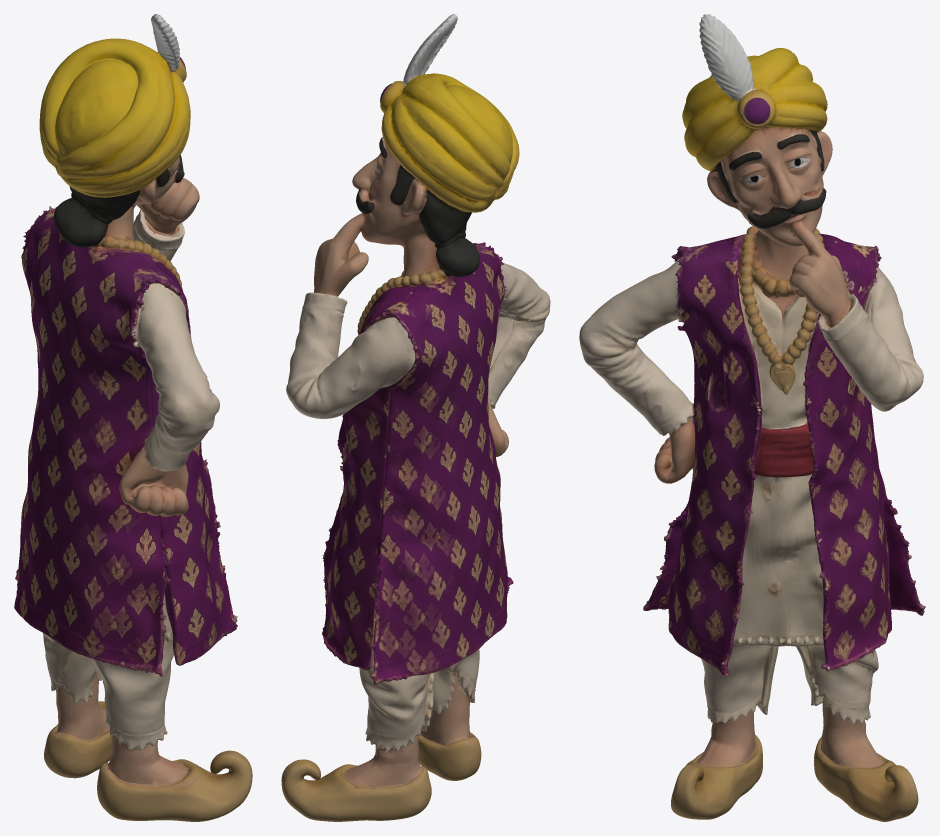
The model's file is birbal.glb.
The picture shows the model from 3 angles, left to right: view 1: azimuth 30°, elevation 25°; view 2: azimuth 150°, elevation 25°; view 3: azimuth 270°, elevation 25°; orthographic projection. The views are drawn at different scales.
Parts seen in each view (by area): view 1: tripo_node_72dcf7a5-e5c6-4138-8954-e76c51cb2341; view 2: tripo_node_72dcf7a5-e5c6-4138-8954-e76c51cb2341; view 3: tripo_node_72dcf7a5-e5c6-4138-8954-e76c51cb2341.
Boxes of the visible parts, x1,y1,x2,y2 form: tripo_node_72dcf7a5-e5c6-4138-8954-e76c51cb2341: [14, 14, 252, 821]; tripo_node_72dcf7a5-e5c6-4138-8954-e76c51cb2341: [281, 14, 550, 821]; tripo_node_72dcf7a5-e5c6-4138-8954-e76c51cb2341: [579, 14, 925, 821].
Bounding box in the file's own units: 0.0508 × 0.22 × 0.0884.
1 material, 1 textured.
